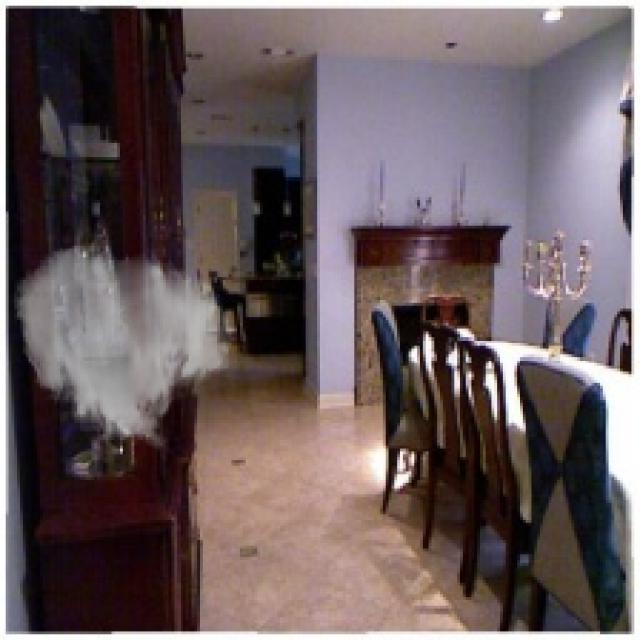Smoke: (12, 243, 235, 451)
